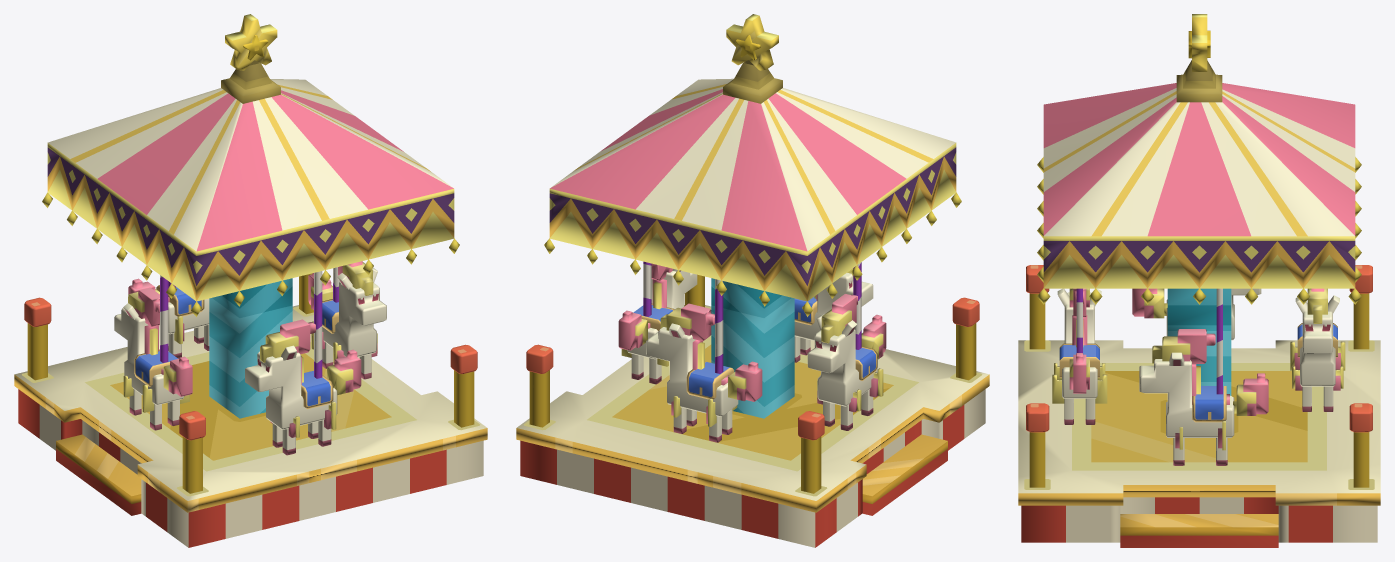
File: bdPonytaMerryGoRound.obj
3 views of the same model, side by side, from view 1: azimuth 30°, elevation 25°; view 2: azimuth 150°, elevation 25°; view 3: azimuth 270°, elevation 25° (orthographic). The views are drawn at different scales.
Visible parts, largest first — view 1: bdPonytaMerryGoRound; view 2: bdPonytaMerryGoRound; view 3: bdPonytaMerryGoRound.
Boxes of the visible parts, bbox=[...] form: bdPonytaMerryGoRound: bbox=[14, 14, 487, 547]; bdPonytaMerryGoRound: bbox=[516, 14, 989, 547]; bdPonytaMerryGoRound: bbox=[1018, 14, 1380, 547].
Bounding box in the file's own units: 9.43 × 12.4 × 9.
Materials: 1 (1 with a texture image).
